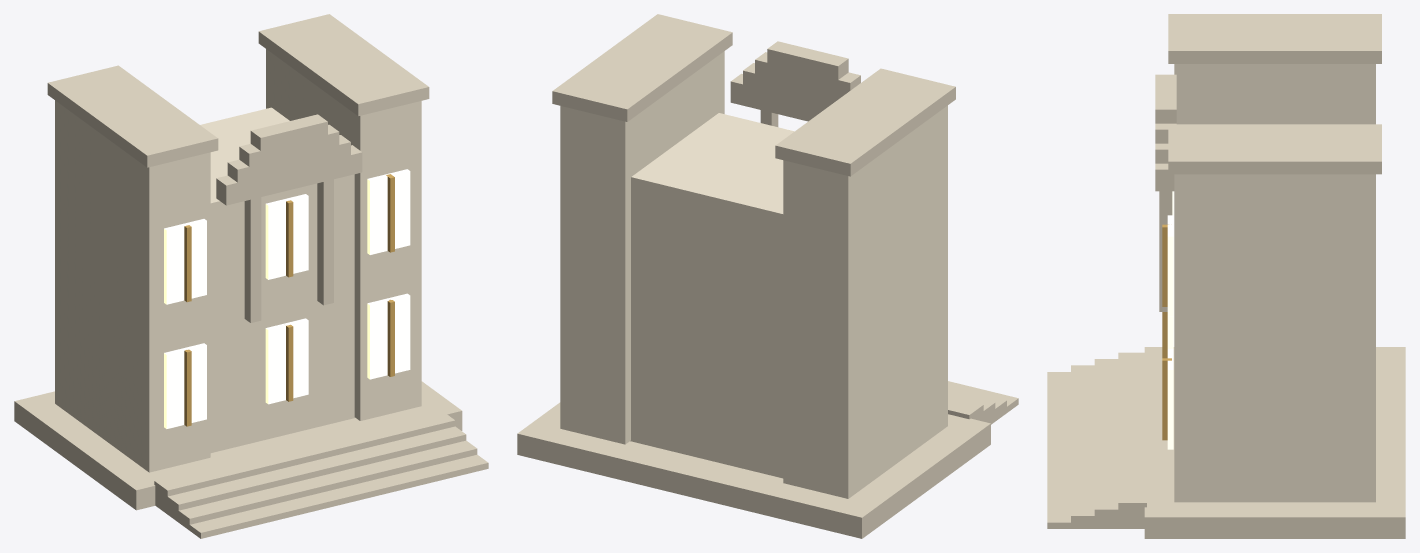
Rendered from heritage-house.glb.
3 renders of one model, left to right at view 1: azimuth 30°, elevation 25°; view 2: azimuth 150°, elevation 25°; view 3: azimuth 270°, elevation 25°, orthographic. The views are drawn at different scales.
Size of the model in its own units: 1.7 by 1.7 by 1.51.
